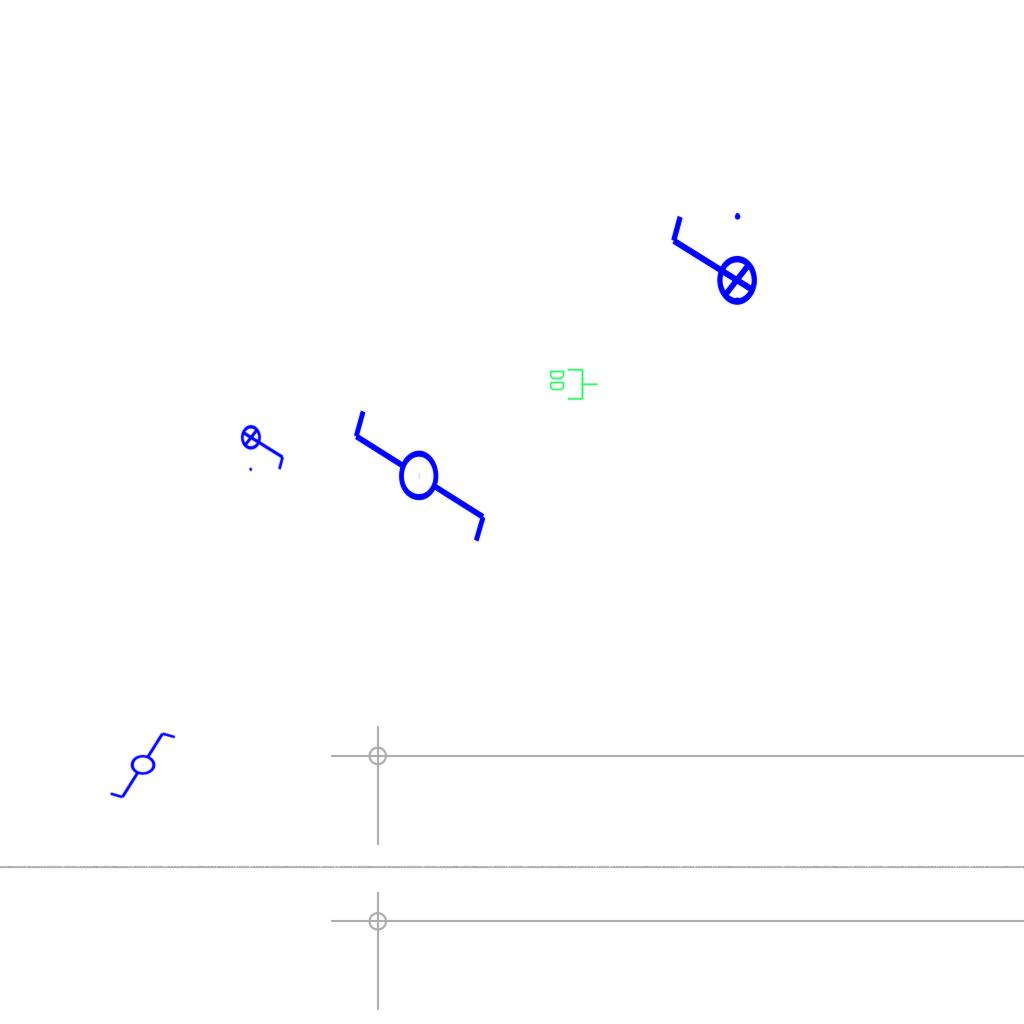Ausschalter_beleuchtet: (663, 207, 759, 319), (240, 418, 288, 474)
Datenanschluss_zweifach: (548, 367, 599, 401)
Wechselschalter: (349, 389, 493, 546), (108, 730, 186, 802)
